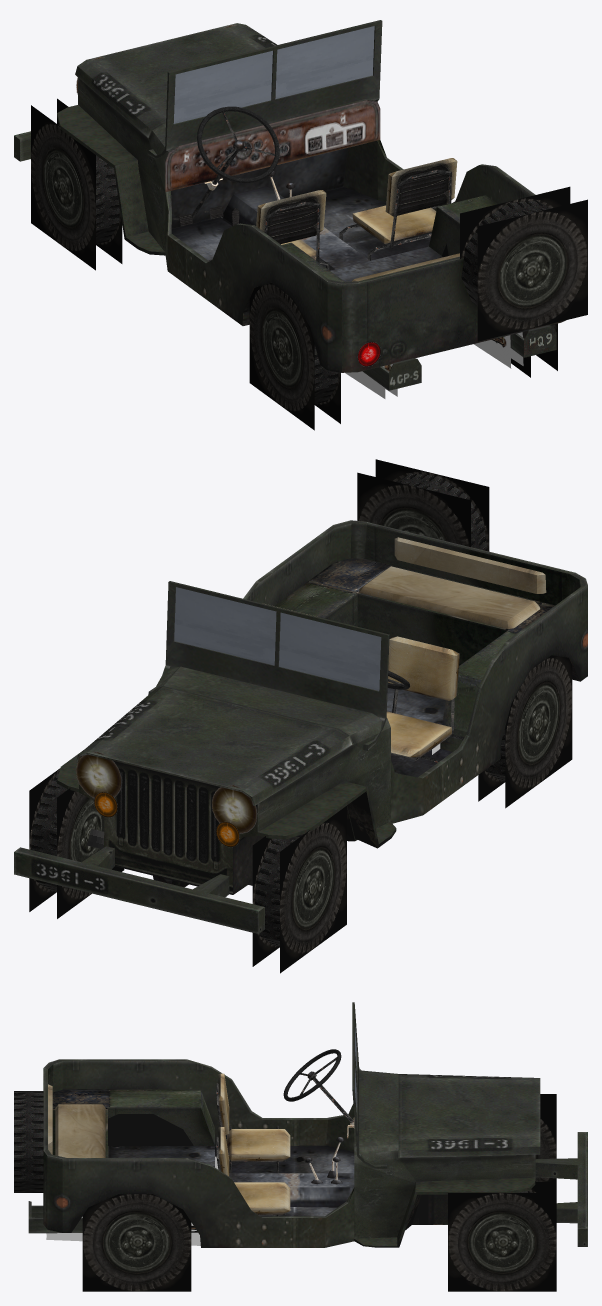
Rendered from Training_SASJeep.fbx.
3 renders of one model, top to bottom at view 1: azimuth 30°, elevation 25°; view 2: azimuth 150°, elevation 25°; view 3: azimuth 270°, elevation 25°, orthographic. The views are drawn at different scales.
Parts seen in each view (by area): view 1: telo, kolo, BODY, WHL00, WHL01, Box09, Loft12, sklo02, sklo01, Line40, Line44, SWHEEL (+1 smaller); view 2: telo, BODY, WHL00, WHL01, kolo, Box02, Box09, WHR00, Line44, sklo01, sklo02, Line40 (+2 smaller); view 3: telo, BODY, WHR00, WHR01, kolo, Line44, Box02, Line43, Loft12, WHL00, SWHEEL, Box09.
Part boxes in pixels (bbox=[...]): telo: bbox=[78, 77, 565, 372]; kolo: bbox=[460, 186, 587, 341]; BODY: bbox=[75, 23, 556, 390]; WHL00: bbox=[31, 98, 122, 270]; WHL01: bbox=[249, 283, 340, 430]; Box09: bbox=[148, 20, 382, 158]; Loft12: bbox=[339, 158, 457, 260]; sklo02: bbox=[275, 26, 374, 99]; sklo01: bbox=[173, 50, 272, 123]; Line40: bbox=[57, 105, 165, 255]; Line44: bbox=[208, 190, 329, 269]; SWHEEL: bbox=[187, 106, 279, 225]; telo: bbox=[79, 520, 587, 894]; BODY: bbox=[76, 686, 353, 805]; WHL00: bbox=[252, 806, 346, 973]; WHL01: bbox=[478, 655, 572, 808]; kolo: bbox=[357, 459, 489, 551]; Box02: bbox=[14, 846, 264, 933]; Box09: bbox=[148, 581, 389, 750]; WHR00: bbox=[29, 768, 124, 918]; Line44: bbox=[386, 636, 464, 762]; sklo01: bbox=[279, 612, 381, 690]; sklo02: bbox=[174, 587, 276, 665]; Line40: bbox=[257, 781, 396, 848]; telo: bbox=[43, 1059, 535, 1247]; BODY: bbox=[28, 1074, 540, 1245]; WHR00: bbox=[448, 1182, 556, 1291]; WHR01: bbox=[82, 1194, 191, 1291]; kolo: bbox=[14, 1091, 43, 1192]; Line44: bbox=[216, 1073, 290, 1173]; Box02: bbox=[535, 1132, 587, 1246]; Line43: bbox=[354, 1177, 535, 1247]; Loft12: bbox=[216, 1127, 290, 1216]; WHL00: bbox=[535, 1094, 556, 1181]; SWHEEL: bbox=[283, 1049, 353, 1123]; Box09: bbox=[352, 1002, 387, 1170].
Size of what is drawn, in the model's own units: 148 by 136 by 359.
